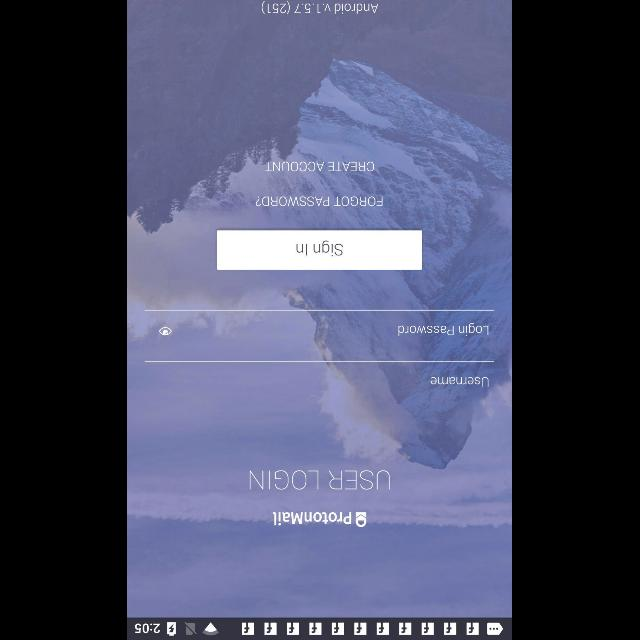backgroundimage: (128, 0, 512, 616)
icon: (357, 511, 368, 527), (160, 327, 172, 335)
input: (145, 309, 495, 336), (145, 361, 495, 387)
text: (251, 470, 391, 490), (262, 2, 378, 15), (256, 196, 384, 206), (265, 161, 375, 171), (274, 512, 352, 526), (399, 324, 489, 336), (431, 377, 489, 387)
textbutton: (218, 230, 422, 270)
uppertaskbar: (128, 617, 512, 639)
